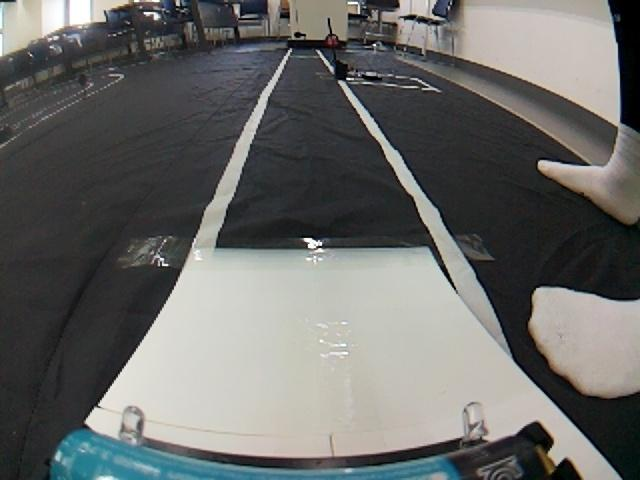hill_down: (74, 234, 527, 476)
